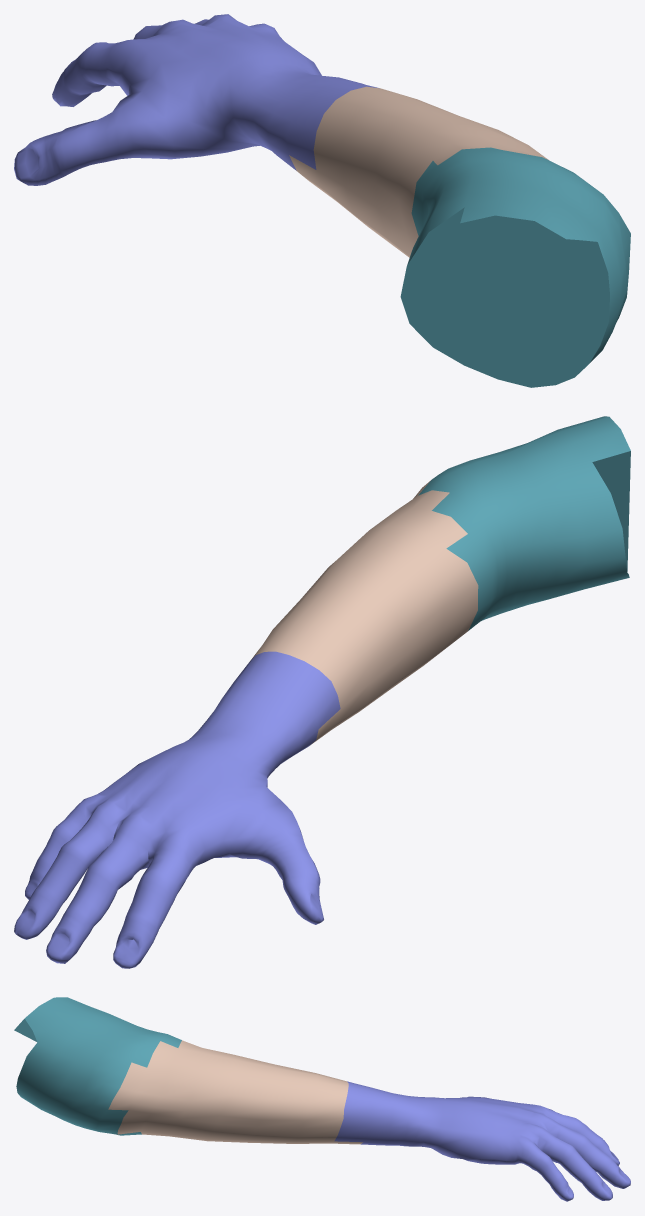
Rendered from main_plate.glb.
3 renders of one model, top to bottom at view 1: azimuth 30°, elevation 25°; view 2: azimuth 150°, elevation 25°; view 3: azimuth 270°, elevation 25°, orthographic. The views are drawn at different scales.
Parts seen in each view (by area): view 1: main_plate; view 2: main_plate; view 3: main_plate.
Part boxes in pixels (box(x1,y1,x2,y2)): main_plate: box(14, 14, 630, 387); main_plate: box(14, 416, 630, 968); main_plate: box(14, 997, 630, 1201).
Size of the model in its own units: 0.1718 by 0.1535 by 0.559.
